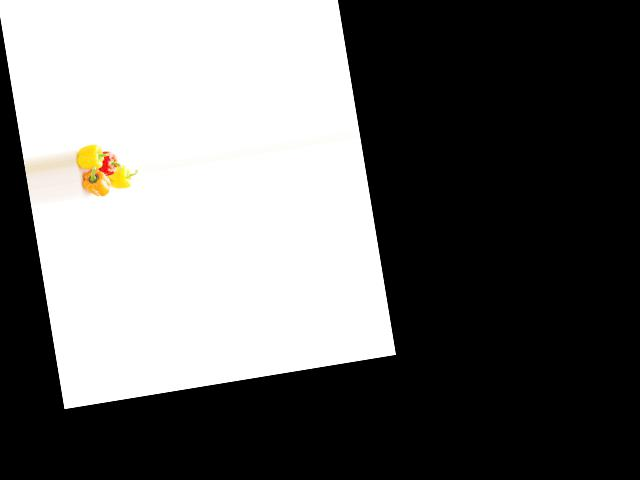bell_pepper: (74, 141, 111, 178)
